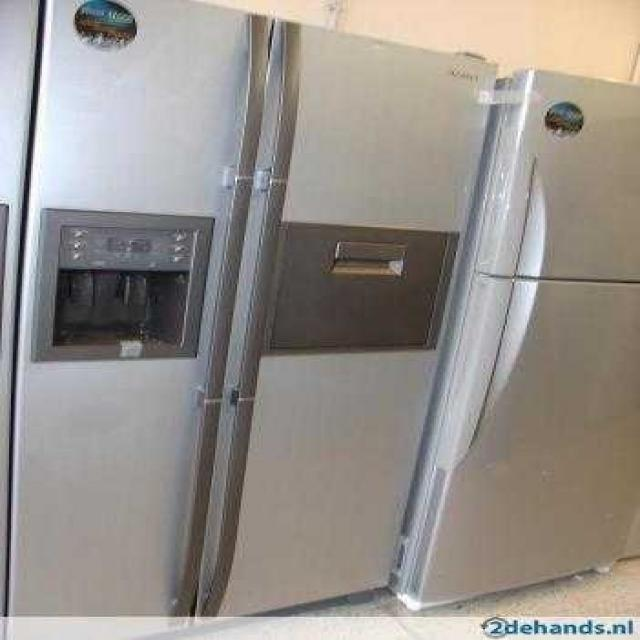refrigerator: (6, 13, 490, 615), (401, 69, 640, 620)
